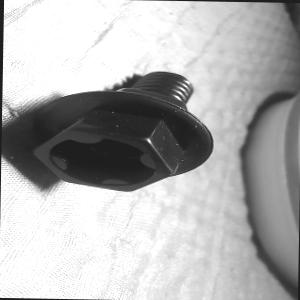parafuso: (28, 69, 217, 194)
